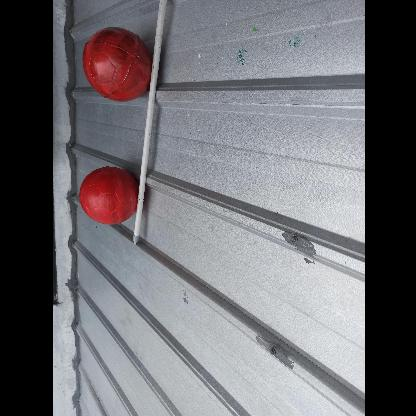red_ball: (76, 27, 152, 103), (78, 166, 139, 228)
